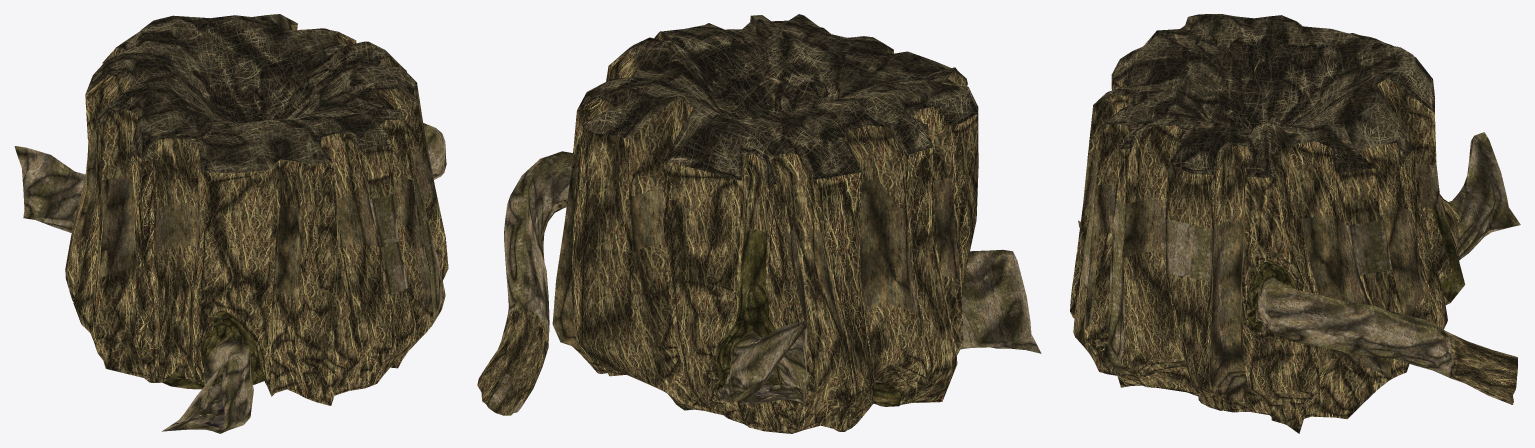
3 renders of one model, left to right at view 1: azimuth 30°, elevation 25°; view 2: azimuth 150°, elevation 25°; view 3: azimuth 270°, elevation 25°, orthographic. The views are drawn at different scales.
Parts seen in each view (by area): view 1: mesh0, mesh9, mesh10, mesh11, mesh7, mesh1, mesh2, mesh3; view 2: mesh9, mesh0, mesh10, mesh7, mesh11, mesh2, mesh3; view 3: mesh0, mesh10, mesh9, mesh11, mesh7, mesh1, mesh2.
Part boxes in pixels (bbox=[...]): mesh0: bbox=[85, 14, 418, 173]; mesh9: bbox=[65, 83, 445, 405]; mesh10: bbox=[65, 18, 448, 396]; mesh11: bbox=[75, 120, 436, 355]; mesh7: bbox=[14, 104, 446, 433]; mesh1: bbox=[380, 133, 442, 324]; mesh2: bbox=[162, 310, 264, 389]; mesh3: bbox=[162, 384, 221, 433]; mesh9: bbox=[477, 111, 978, 433]; mesh0: bbox=[577, 14, 978, 184]; mesh10: bbox=[571, 16, 967, 431]; mesh7: bbox=[504, 151, 1041, 404]; mesh11: bbox=[552, 168, 959, 346]; mesh2: bbox=[715, 229, 901, 406]; mesh3: bbox=[486, 371, 807, 414]; mesh0: bbox=[1093, 14, 1434, 177]; mesh10: bbox=[1070, 17, 1451, 419]; mesh9: bbox=[1073, 76, 1517, 429]; mesh11: bbox=[1083, 154, 1441, 401]; mesh7: bbox=[1078, 132, 1520, 378]; mesh1: bbox=[1080, 219, 1392, 375]; mesh2: bbox=[1248, 208, 1465, 331].
Size of the model in its own units: 25.61 by 19.73 by 25.82.
